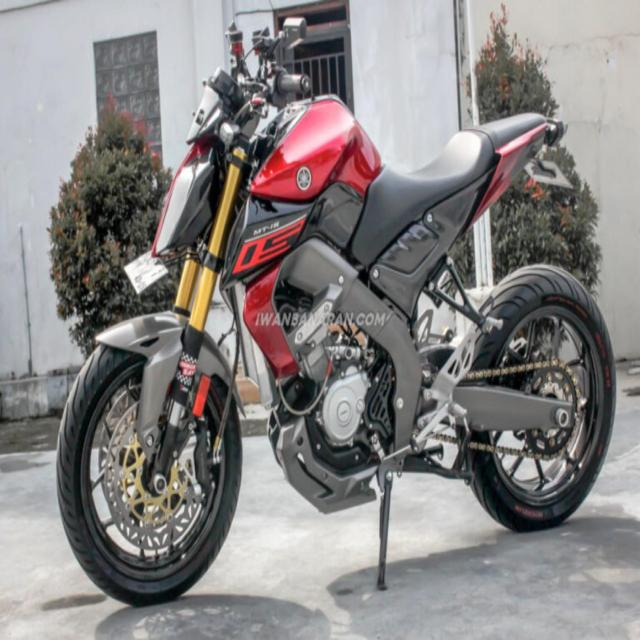Bike: (53, 20, 618, 603)
